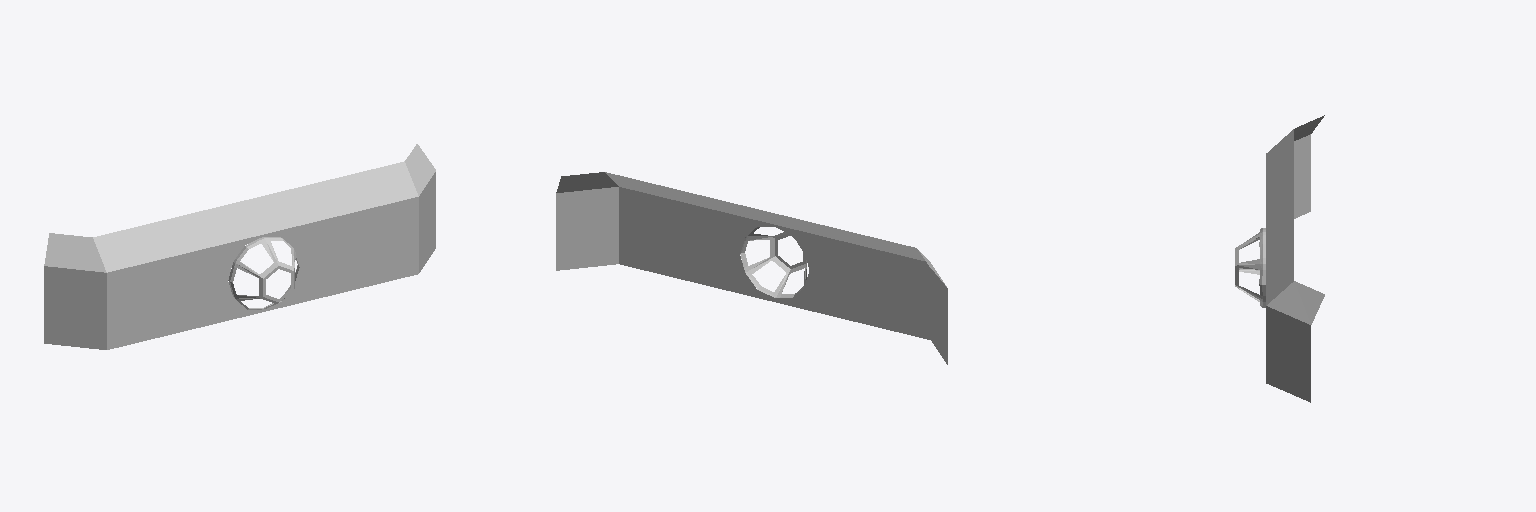
File: Wall_2.obj
3 views of the same model, side by side, from view 1: azimuth 30°, elevation 25°; view 2: azimuth 150°, elevation 25°; view 3: azimuth 270°, elevation 25° (orthographic).
Visible parts, largest first — view 1: pPlane26 ParedVentana3, ParedVentana3 pCylinder1; view 2: pPlane26 ParedVentana3, ParedVentana3 pCylinder1; view 3: pPlane26 ParedVentana3, ParedVentana3 pCylinder1.
Boxes of the visible parts, box(x1,y1,x2,y2) form: pPlane26 ParedVentana3: box(44, 144, 435, 349); ParedVentana3 pCylinder1: box(228, 237, 299, 309); pPlane26 ParedVentana3: box(556, 172, 947, 364); ParedVentana3 pCylinder1: box(740, 227, 806, 297); pPlane26 ParedVentana3: box(1266, 115, 1324, 402); ParedVentana3 pCylinder1: box(1235, 228, 1265, 307).
Size of the model in its own units: 1000 by 250 by 201.